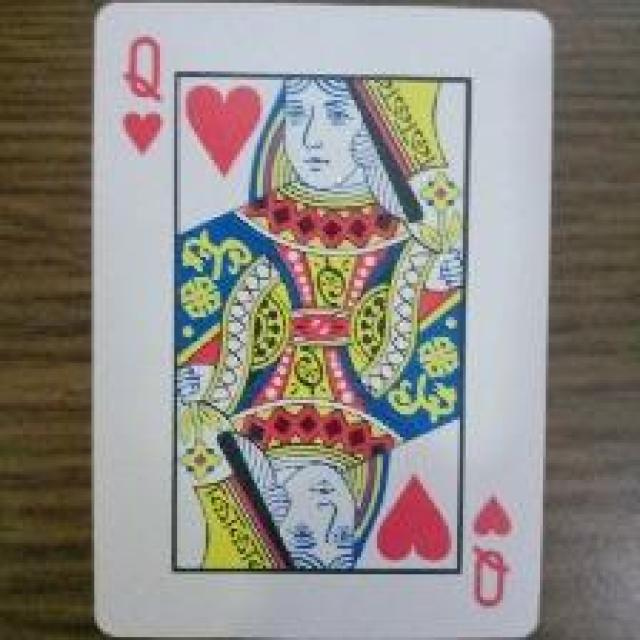Queen of hearts: (92, 4, 548, 639)
